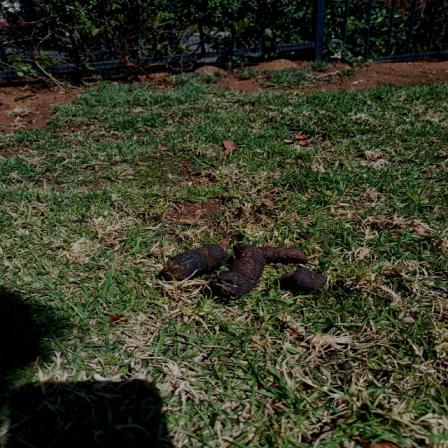dog-poop: (170, 233, 333, 301)
